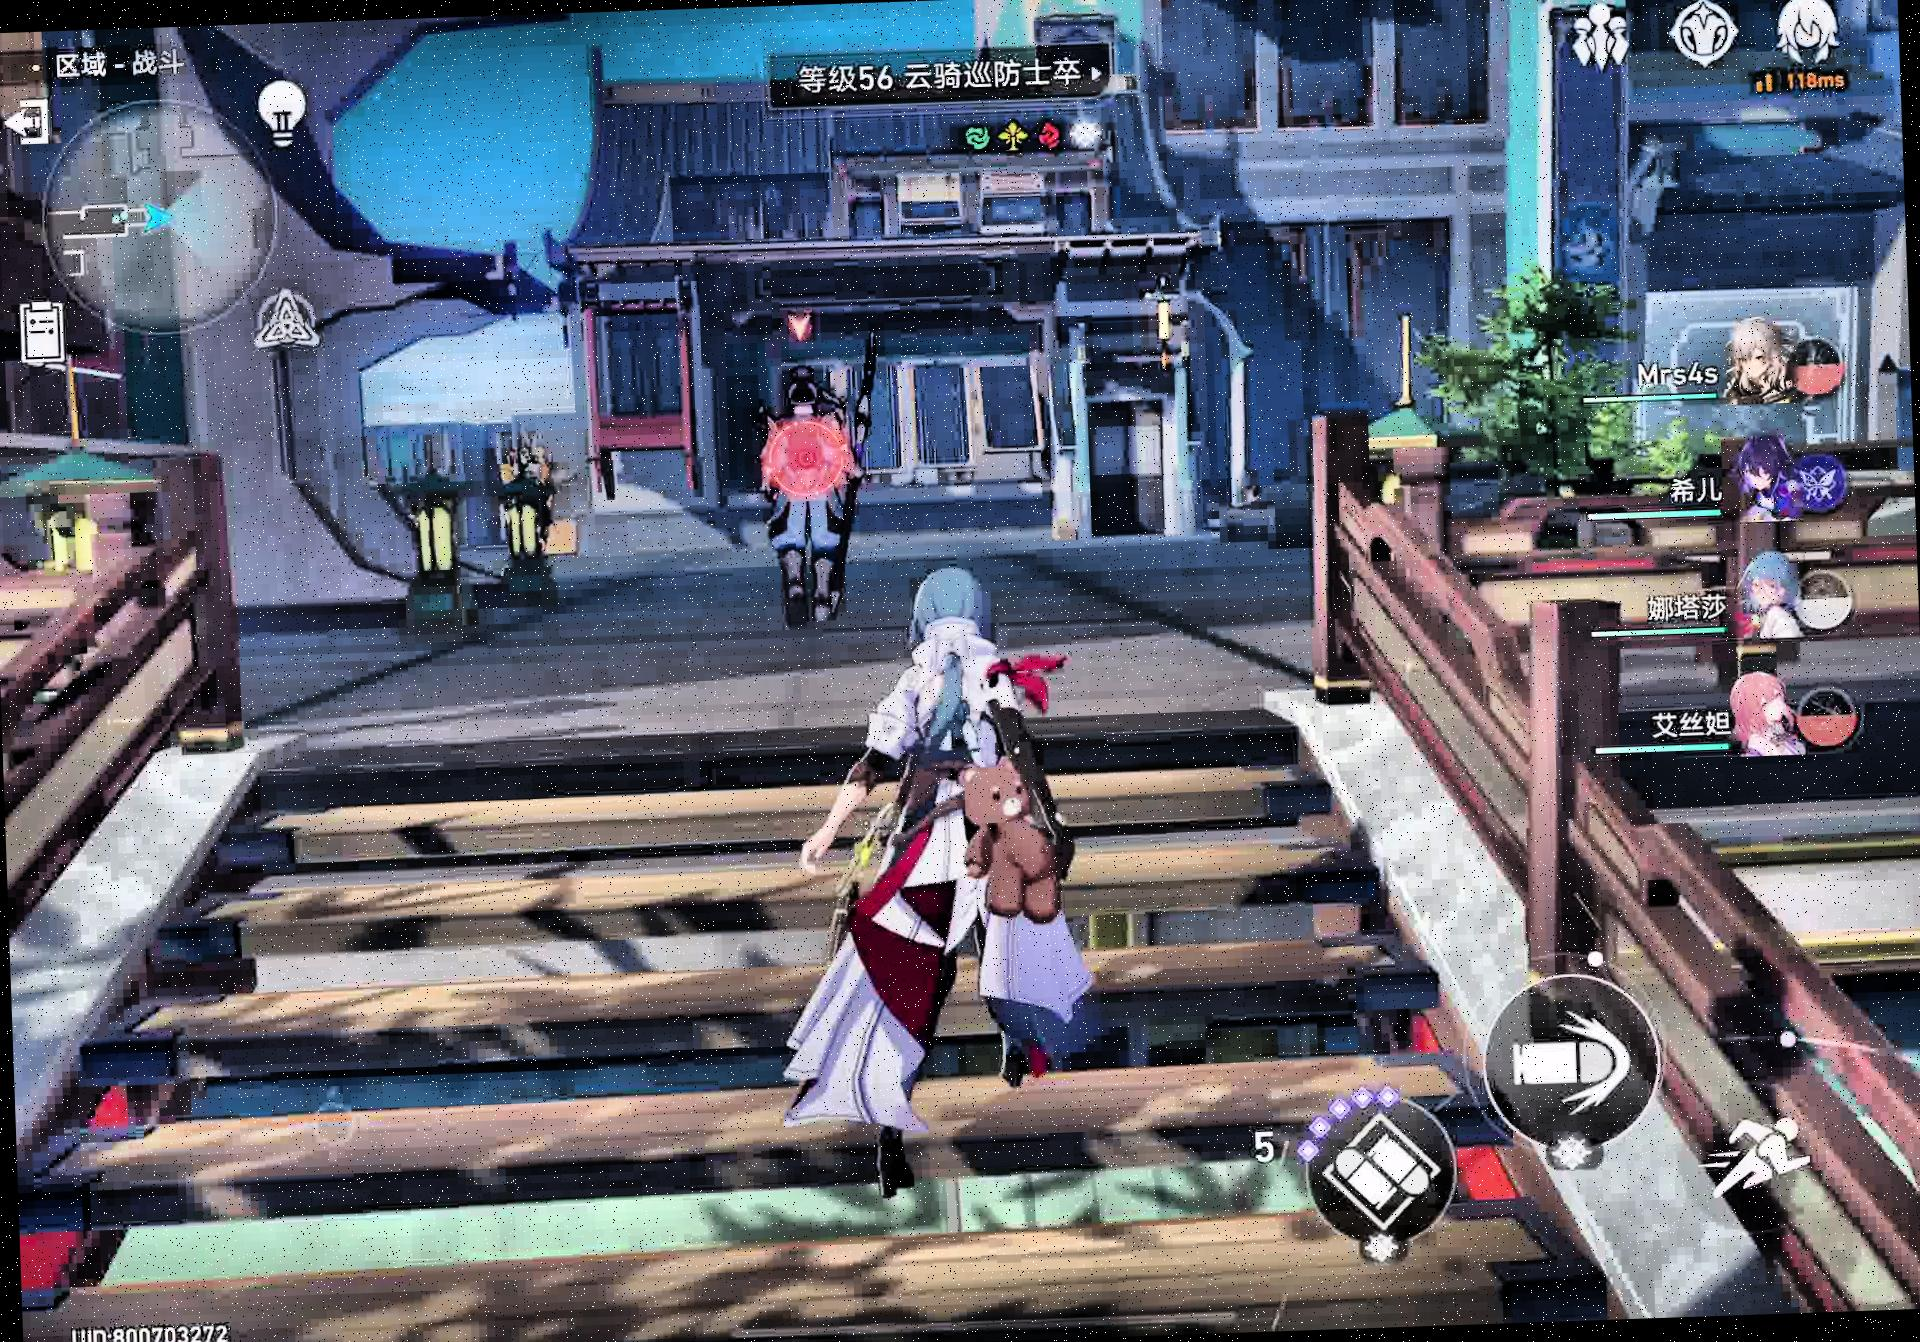Enemy: (743, 363, 867, 624)
Self: (779, 560, 1107, 1196)
